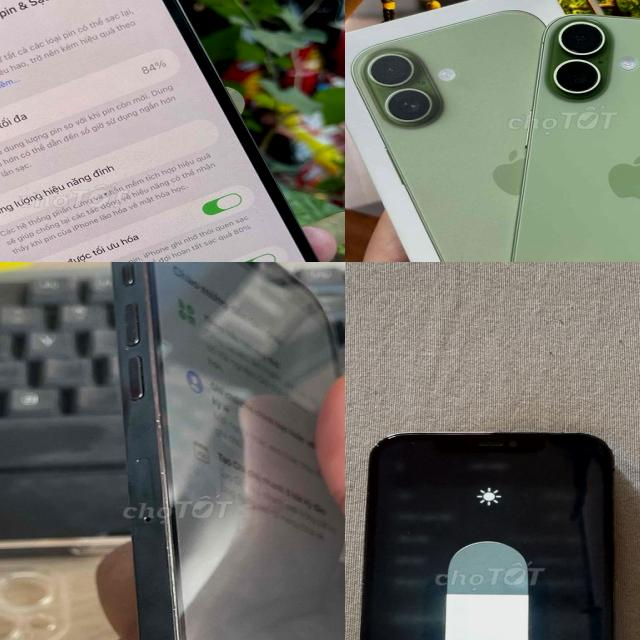scratch: (114, 334, 190, 572)
